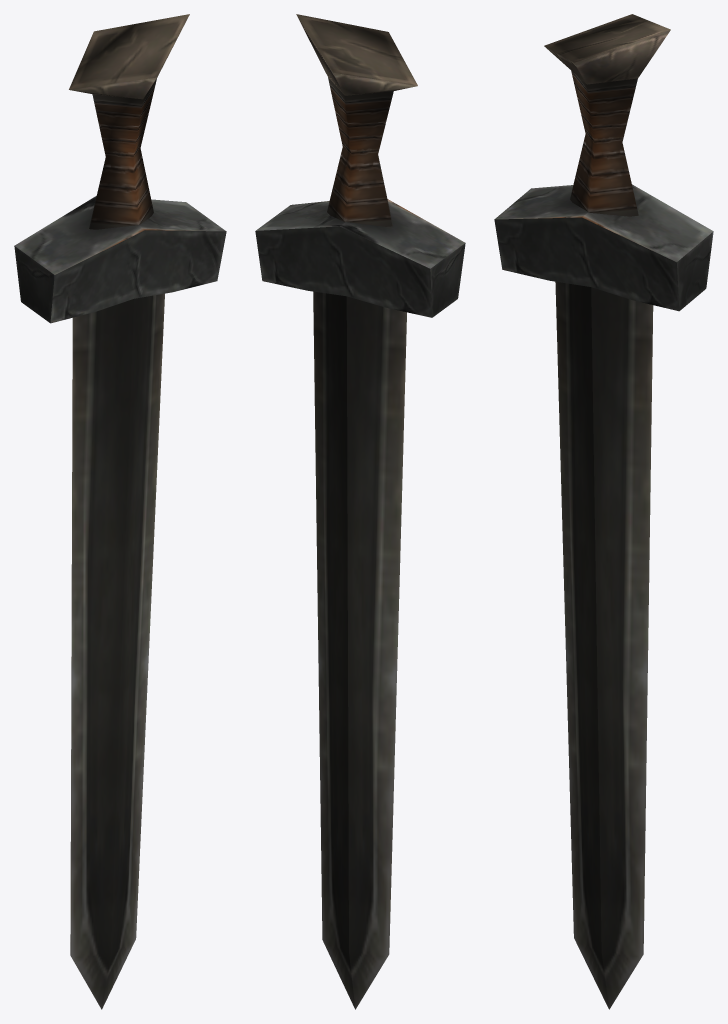
Rendered from Z_wuqi002.fbx.
The picture shows the model from 3 angles, left to right: view 1: azimuth 30°, elevation 25°; view 2: azimuth 150°, elevation 25°; view 3: azimuth 330°, elevation 25°; orthographic projection. The views are drawn at different scales.
Visible parts, largest first — view 1: Z_wuqi002; view 2: Z_wuqi002; view 3: Z_wuqi002.
Boxes of the visible parts, x1=… form: Z_wuqi002: x1=14, y1=14, x2=226, y2=1009; Z_wuqi002: x1=255, y1=14, x2=465, y2=1009; Z_wuqi002: x1=494, y1=14, x2=713, y2=1009.
Size of the model in its own units: 34.2 by 182 by 20.01.
